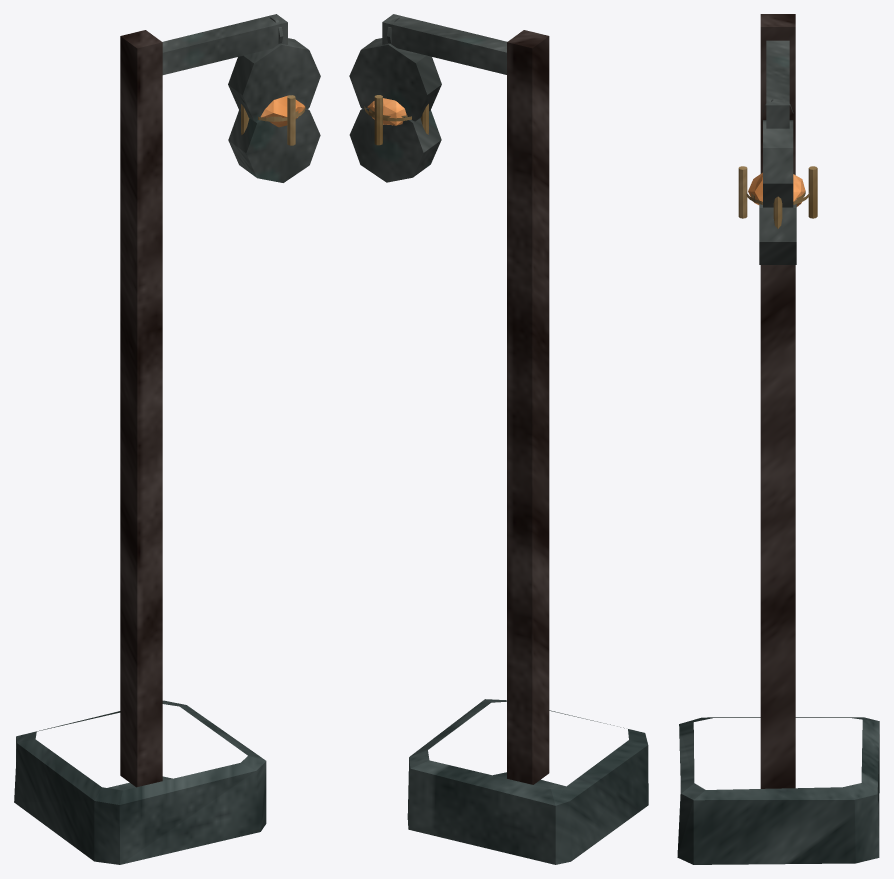
File: 0705_lantern_post_05.glb
3 renders of one model, left to right at view 1: azimuth 30°, elevation 25°; view 2: azimuth 150°, elevation 25°; view 3: azimuth 270°, elevation 25°, orthographic. The views are drawn at different scales.
Parts seen in each view (by area): view 1: wood_dark, stone_dark, iron, brass, amber; view 2: wood_dark, stone_dark, iron, brass; view 3: wood_dark, stone_dark, iron, brass, amber.
Boxes of the visible parts, x1,y1,x2,y2 form: wood_dark: (120, 30, 162, 787); stone_dark: (14, 700, 266, 864); iron: (162, 14, 320, 182); brass: (241, 95, 305, 145); amber: (260, 95, 304, 127); wood_dark: (507, 30, 549, 784); stone_dark: (407, 699, 648, 864); iron: (349, 14, 507, 182); brass: (364, 95, 428, 145); wood_dark: (760, 14, 795, 788); stone_dark: (677, 717, 879, 864); iron: (759, 40, 796, 264); brass: (738, 166, 817, 228); amber: (748, 172, 805, 206).
Size of the model in its own units: 1.32 by 3.81 by 0.8646.
5 materials, 5 textured.
